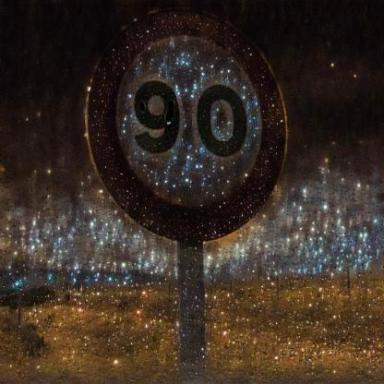Speed_limit_90: (89, 18, 284, 231)
